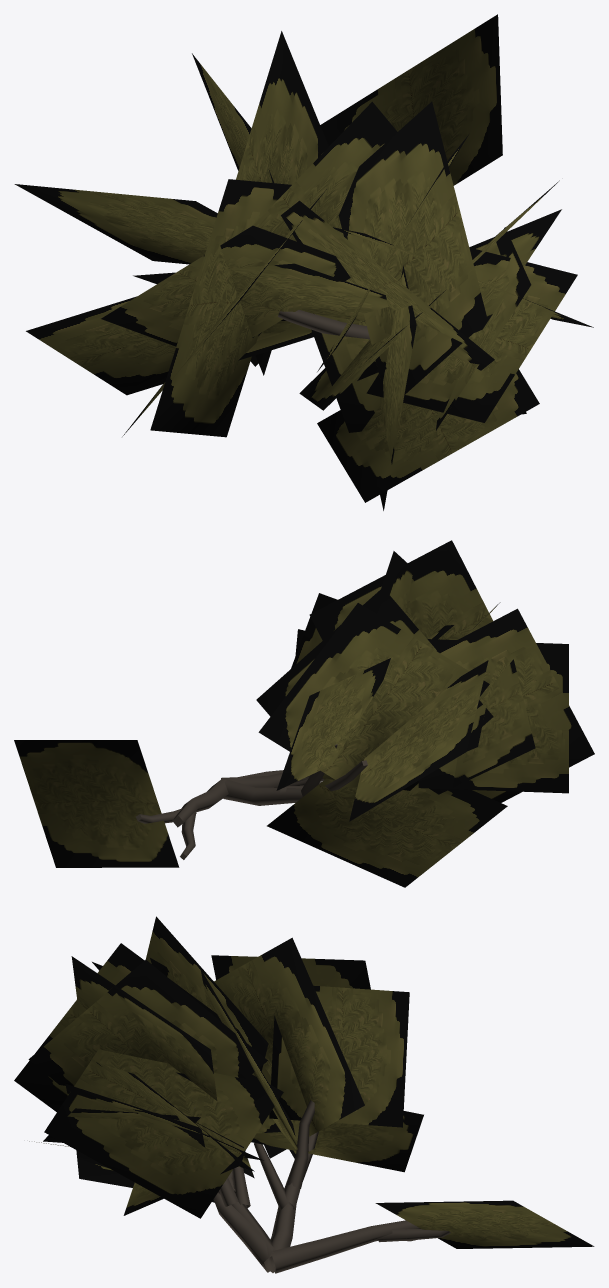
The model's file is arctic_shrub_1_burnt2.glb.
The picture shows the model from 3 angles, top to bottom: view 1: azimuth 30°, elevation 25°; view 2: azimuth 150°, elevation 25°; view 3: azimuth 270°, elevation 25°; orthographic projection. The views are drawn at different scales.
Parts seen in each view (by area): view 1: arctic_shrub_1_burnt2; view 2: arctic_shrub_1_burnt2; view 3: arctic_shrub_1_burnt2.
Part boxes in pixels (x1,y1,x2,y2): arctic_shrub_1_burnt2: [14, 14, 593, 510]; arctic_shrub_1_burnt2: [14, 540, 594, 887]; arctic_shrub_1_burnt2: [14, 916, 594, 1273].
Size of the model in its own units: 1.43 by 0.8028 by 1.63.
2 materials, 1 textured.
